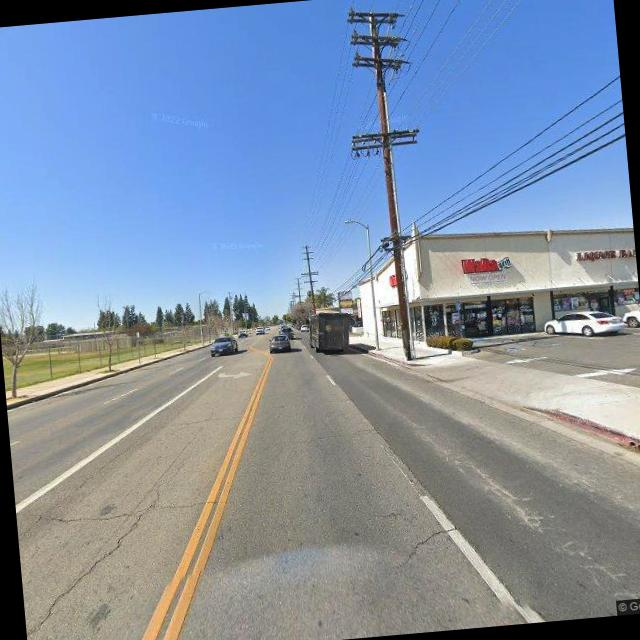crack: (15, 462, 188, 632), (15, 487, 229, 530), (371, 520, 470, 564)
